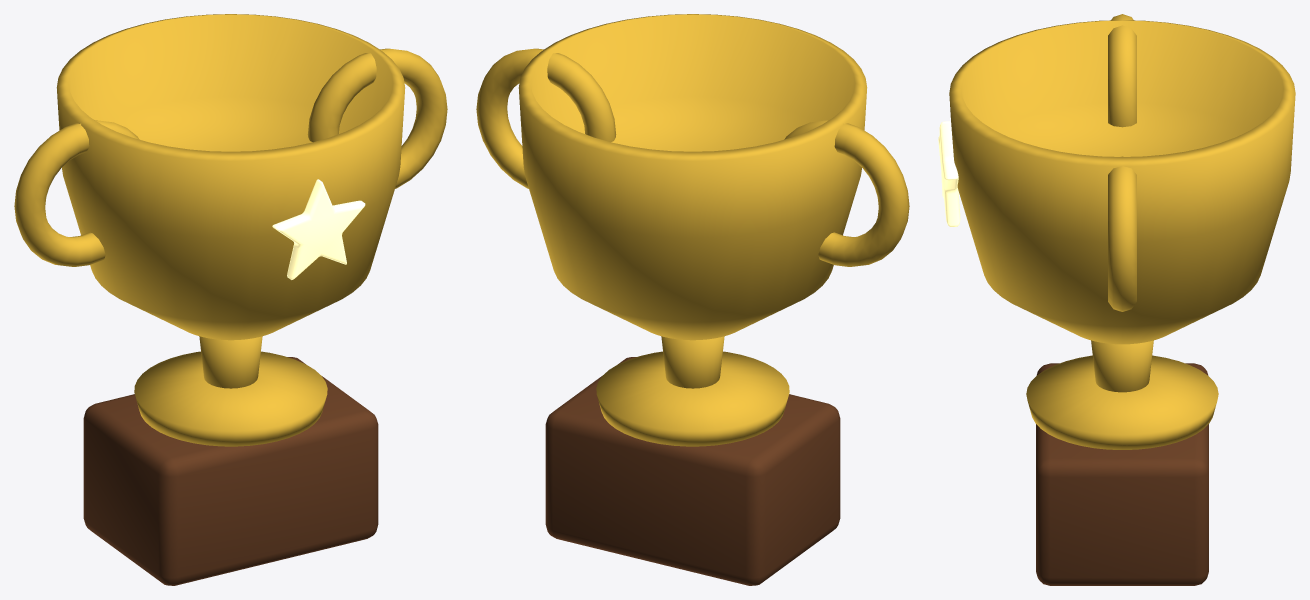
The model's file is d-trophy.glb.
The picture shows the model from 3 angles, left to right: view 1: azimuth 30°, elevation 25°; view 2: azimuth 150°, elevation 25°; view 3: azimuth 270°, elevation 25°; orthographic projection.
Visible parts, largest first — view 1: d-trophy; view 2: d-trophy; view 3: d-trophy.
Part boxes in pixels (x1,y1,x2,y2): d-trophy: (14,14,447,585); d-trophy: (476,14,909,585); d-trophy: (938,14,1295,585).
Bounding box in the file's own units: 0.1491 × 0.15 × 0.1082.
